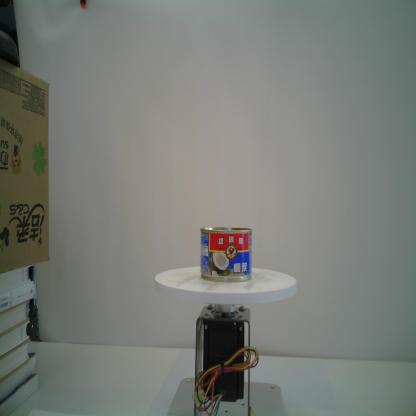Canned Food: (199, 226, 254, 284)
